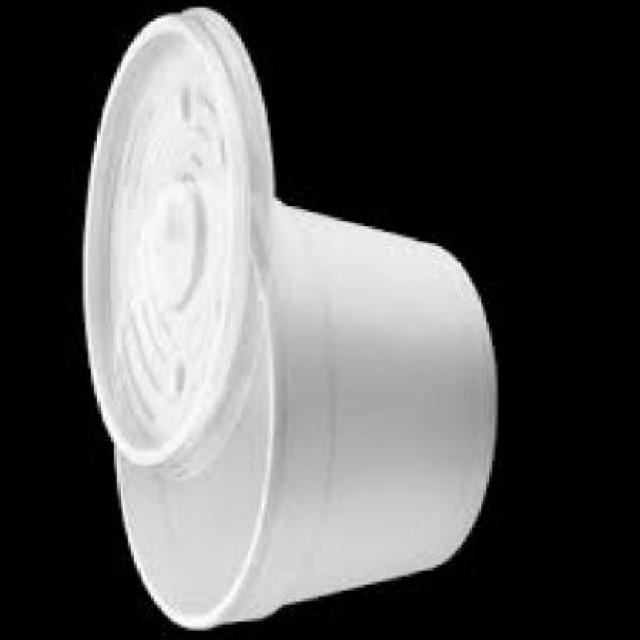PAPER: (108, 203, 495, 632)
PLASTIC: (77, 9, 271, 486)
